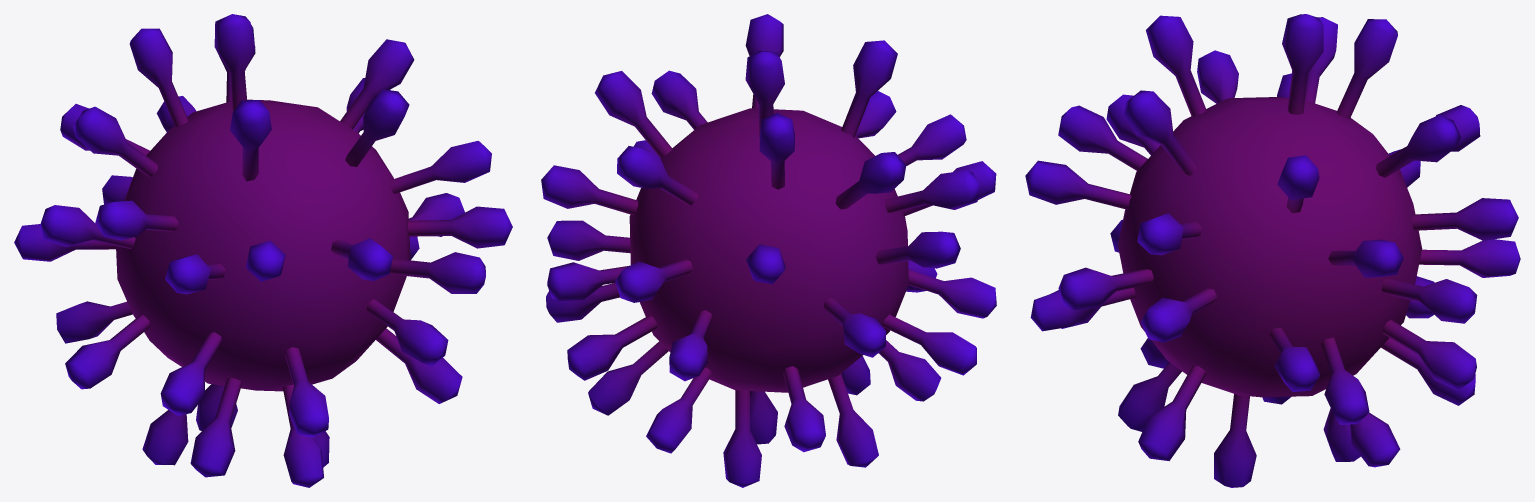
The model's file is microscopic-viruses-coronavirus_v9.fbx.
3 renders of one model, left to right at view 1: azimuth 30°, elevation 25°; view 2: azimuth 150°, elevation 25°; view 3: azimuth 270°, elevation 25°, orthographic. The views are drawn at different scales.
Parts seen in each view (by area): view 1: Coronavirus_v9; view 2: Coronavirus_v9; view 3: Coronavirus_v9.
Part boxes in pixels (x1,y1,x2,y2): Coronavirus_v9: (14, 14, 512, 487); Coronavirus_v9: (541, 14, 996, 487); Coronavirus_v9: (1025, 14, 1520, 487).
Bounding box in the file's own units: 0.1191 × 0.12 × 0.119.
